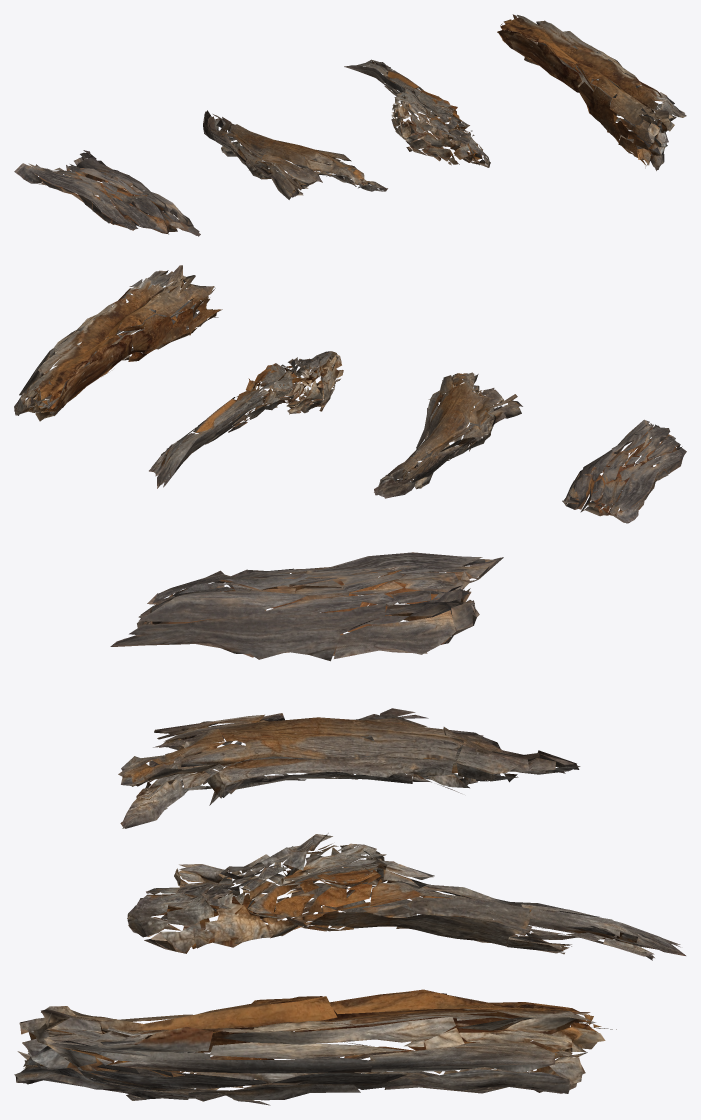
The model's file is bark_debris_01.glb.
The picture shows the model from 3 angles, top to bottom: view 1: azimuth 30°, elevation 25°; view 2: azimuth 150°, elevation 25°; view 3: azimuth 270°, elevation 25°; orthographic projection. The views are drawn at different scales.
Visible parts, largest first — view 1: model; view 2: model; view 3: model.
Boxes of the visible parts, bbox=[...] form: model: bbox=[14, 14, 686, 236]; model: bbox=[14, 265, 686, 523]; model: bbox=[14, 552, 685, 1105].
Size of the model in its own units: 1.21 by 0.1103 by 0.6722.
Materials: 1 (1 with a texture image).
